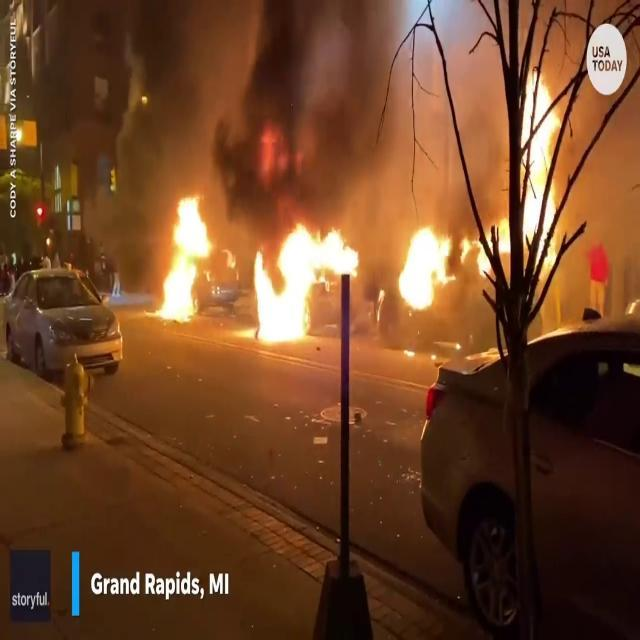Fire: (246, 214, 358, 348), (516, 56, 571, 254), (151, 190, 217, 324), (394, 214, 456, 313)
Smoke: (122, 0, 508, 209)
